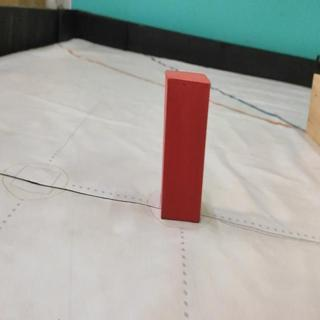redbox: (161, 68, 212, 224)
